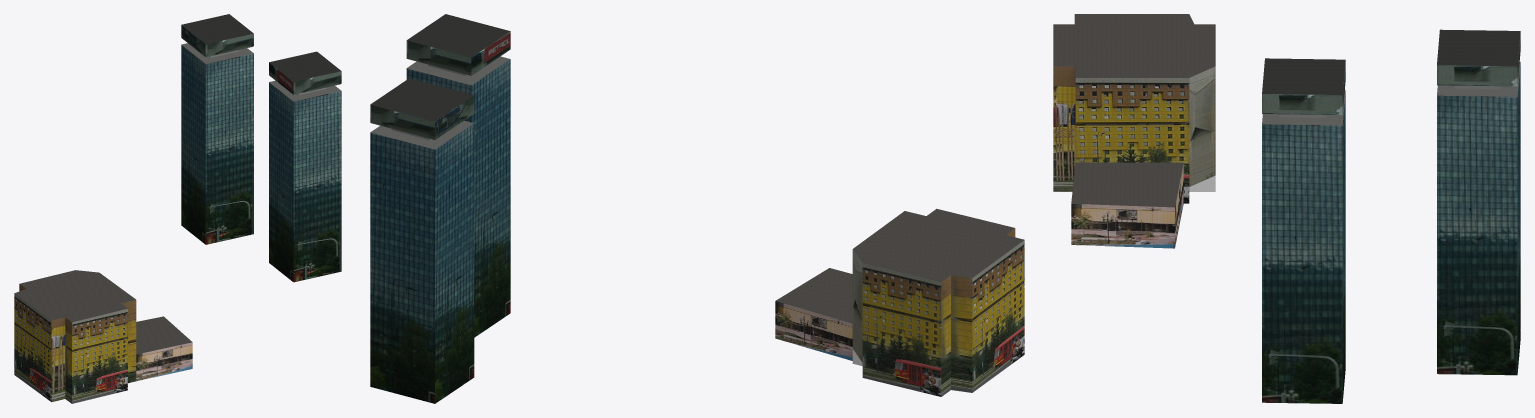
Rendered from Momo_i_Uzejr.fbx.
The picture shows the model from 3 angles, left to right: view 1: azimuth 30°, elevation 25°; view 2: azimuth 150°, elevation 25°; view 3: azimuth 270°, elevation 25°; orthographic projection. The views are drawn at different scales.
Visible parts, largest first — view 1: Model; view 2: Model; view 3: Model.
Boxes of the visible parts, bbox=[...] form: Model: bbox=[14, 14, 341, 403]; Model: bbox=[370, 14, 1024, 403]; Model: bbox=[1053, 14, 1520, 403].
Size of the model in its own units: 8034 by 4455 by 5988.
